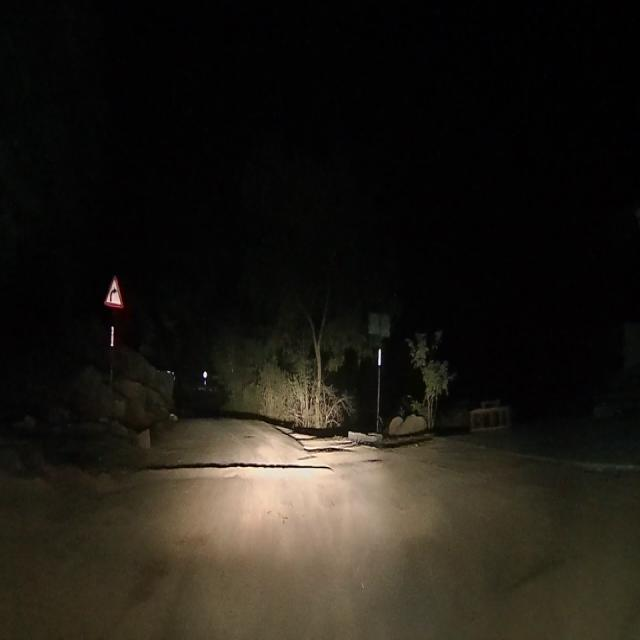right-hand-curve: (102, 272, 124, 310)
